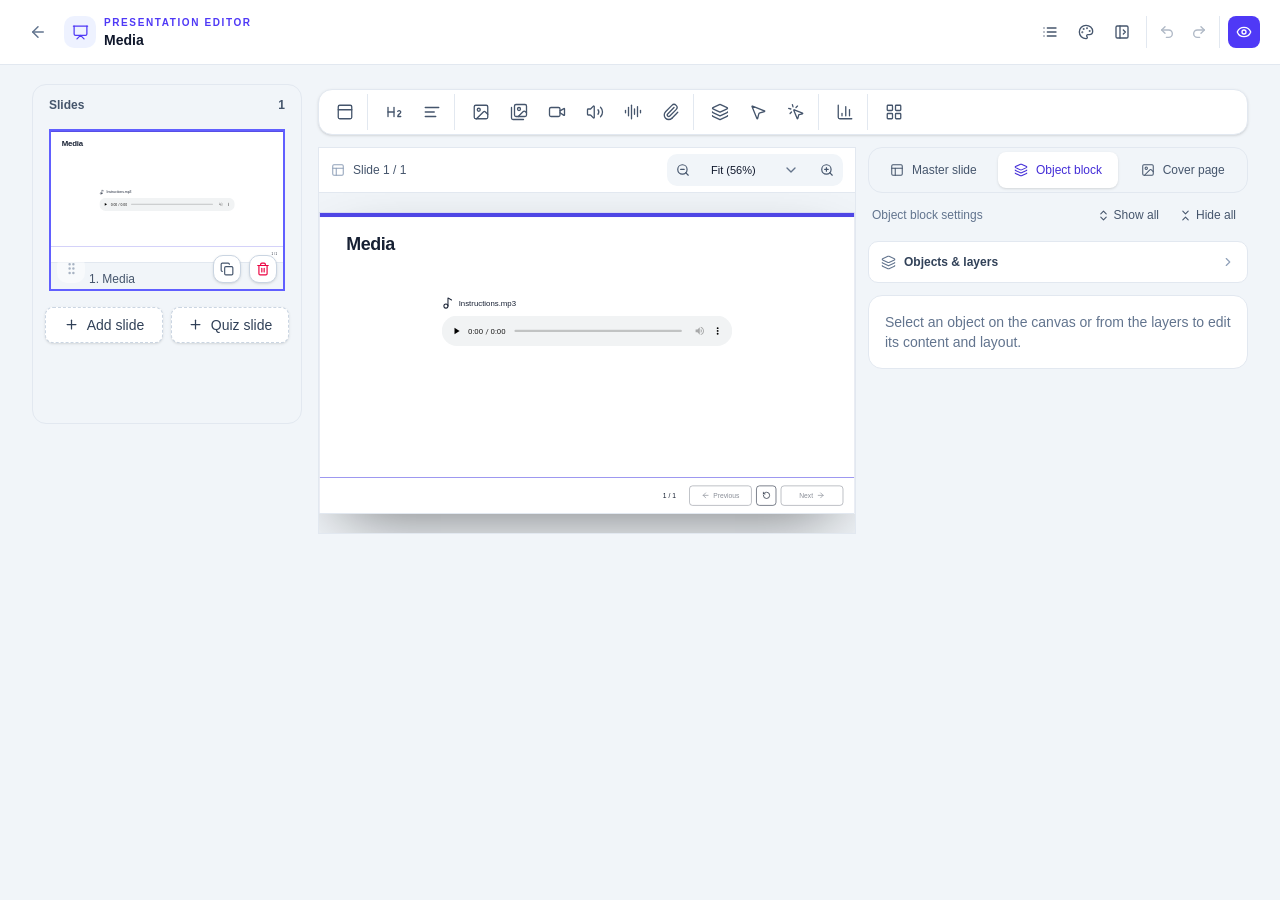
presentation audio file name setting › toggles the file name with undo, saving and reload, and hides it in preview and standalone learners
Press the mouse on the element showing "Instructions.mp3": (479, 303) 442,297 -> 516,309
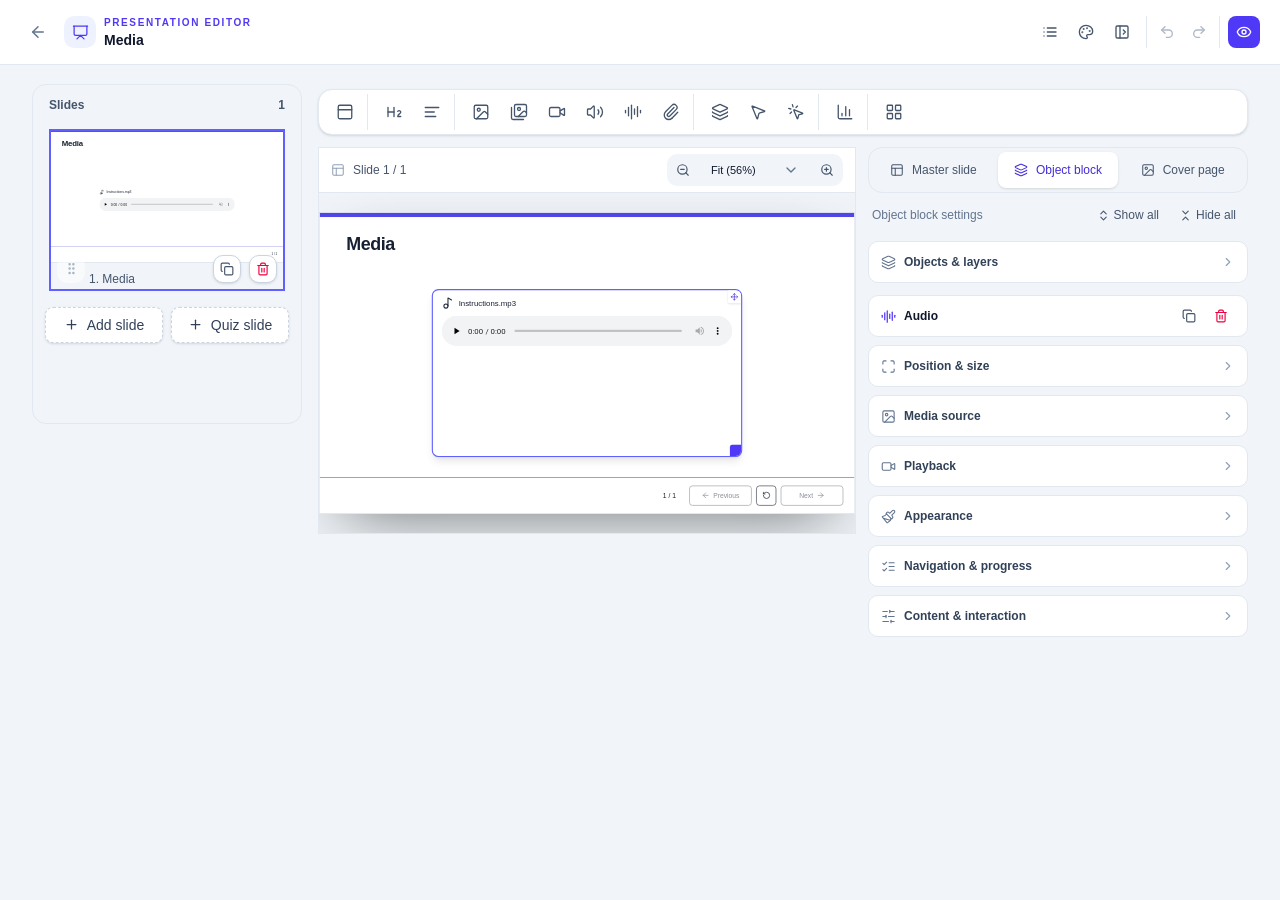
Click the button "Playback": (930, 466) 877,446 -> 1239,486
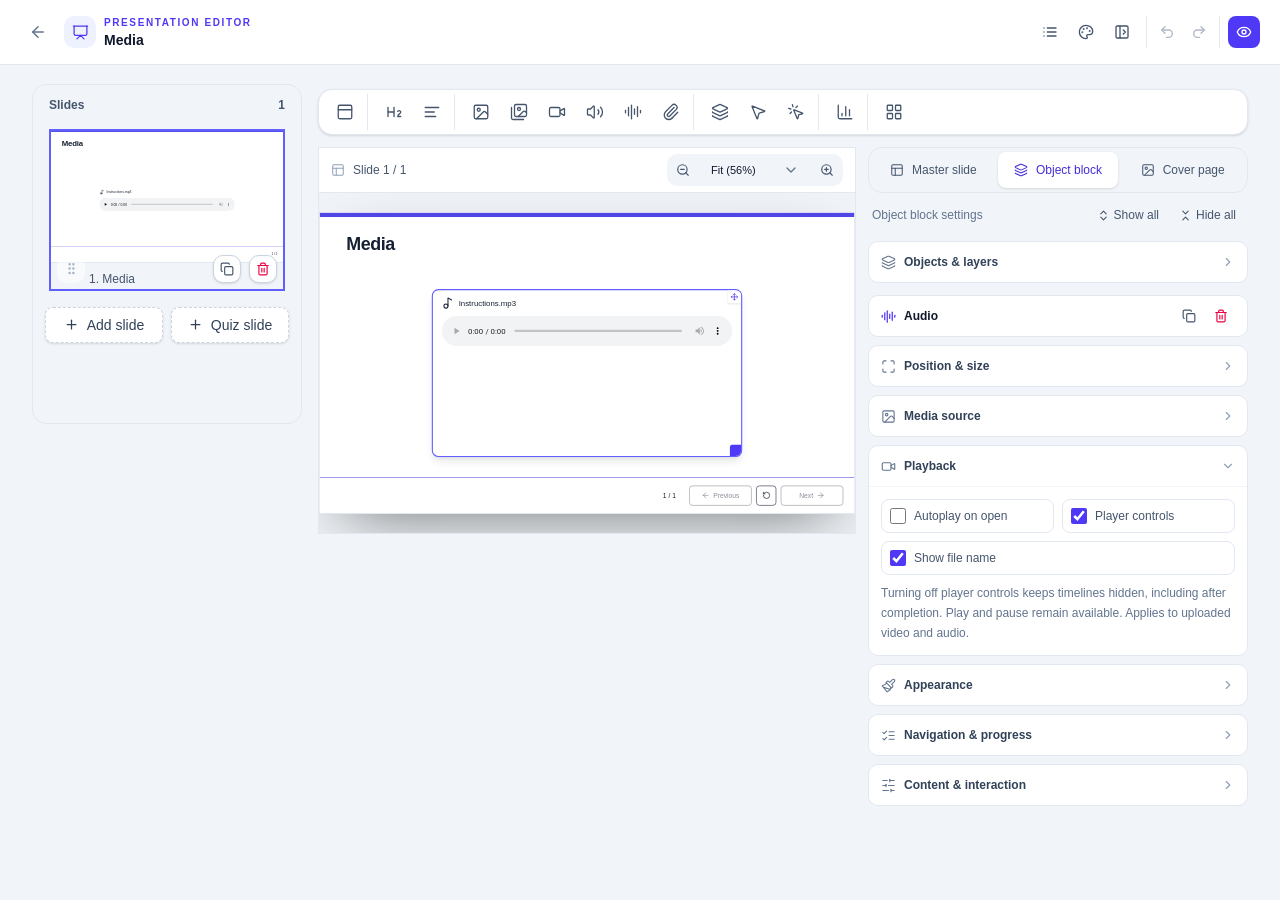
Expected: the element showing "Instructions.mp3 1 / 1 Previous Next" is shown, 319,212 -> 855,514
Now the checkbox named "Show audio file name" is checked
Click the checkbox named "Show audio file name": (898, 558) 890,550 -> 906,566
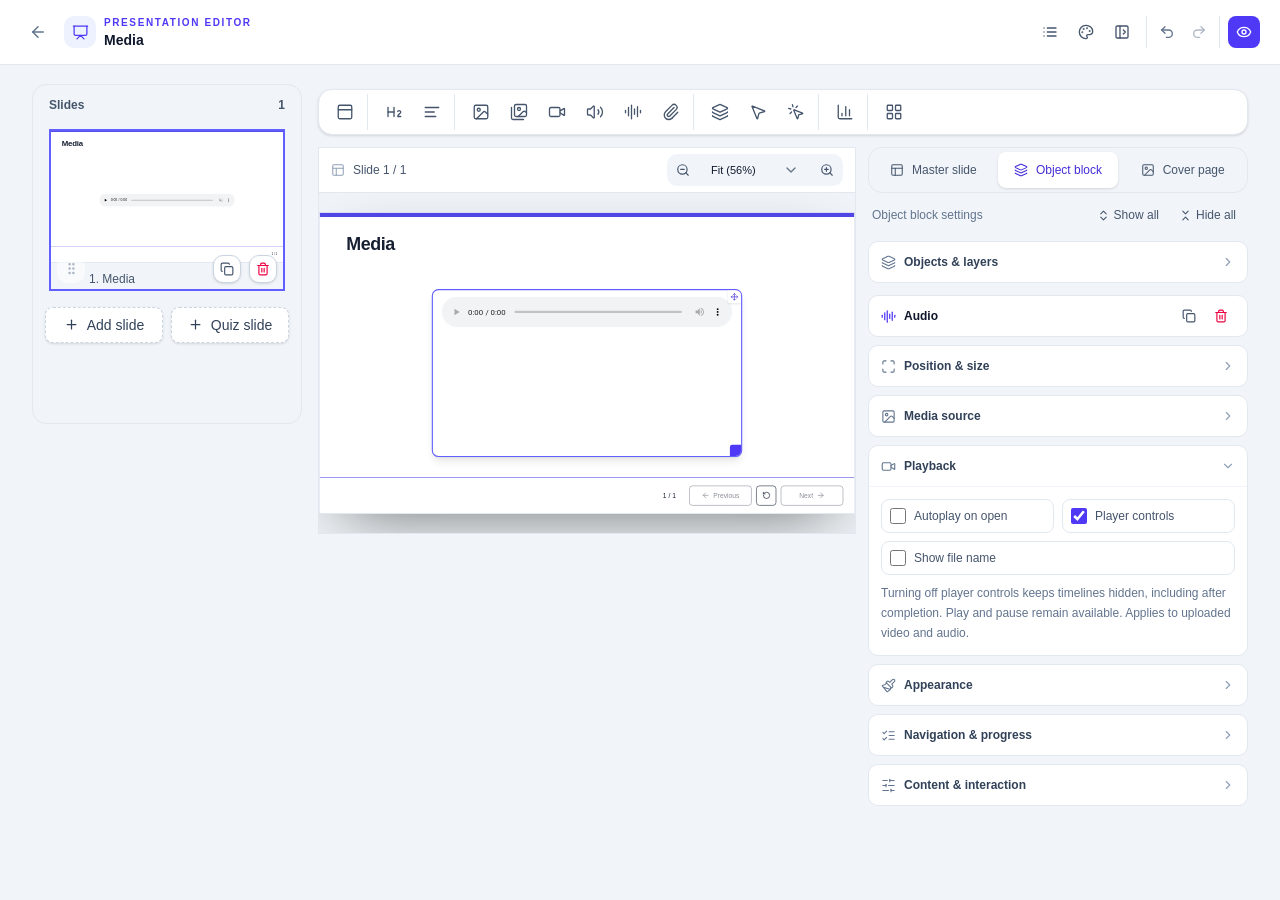
Now the checkbox named "Show audio file name" is not checked, box 890,550 -> 906,566
Now the text "Instructions.mp3" is gone
Click the button named "Undo": (1167, 32) 1151,16 -> 1183,48
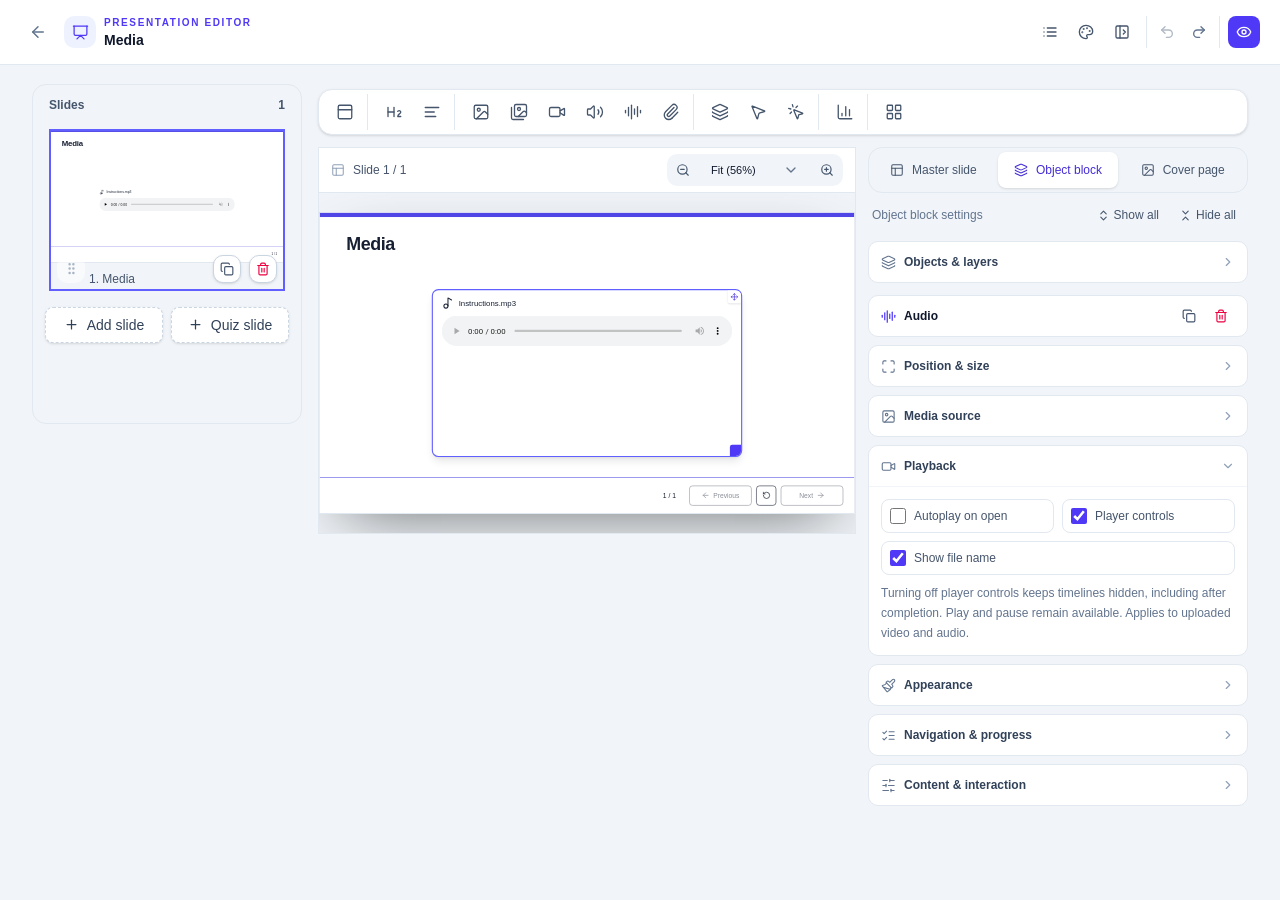
Now the checkbox named "Show audio file name" is checked, box 890,550 -> 906,566
Now the element showing "Instructions.mp3 1 / 1 Previous Next" is shown, box 319,212 -> 855,514
Click the button named "Redo": (1199, 32) 1183,16 -> 1215,48
Wait 1000 ms
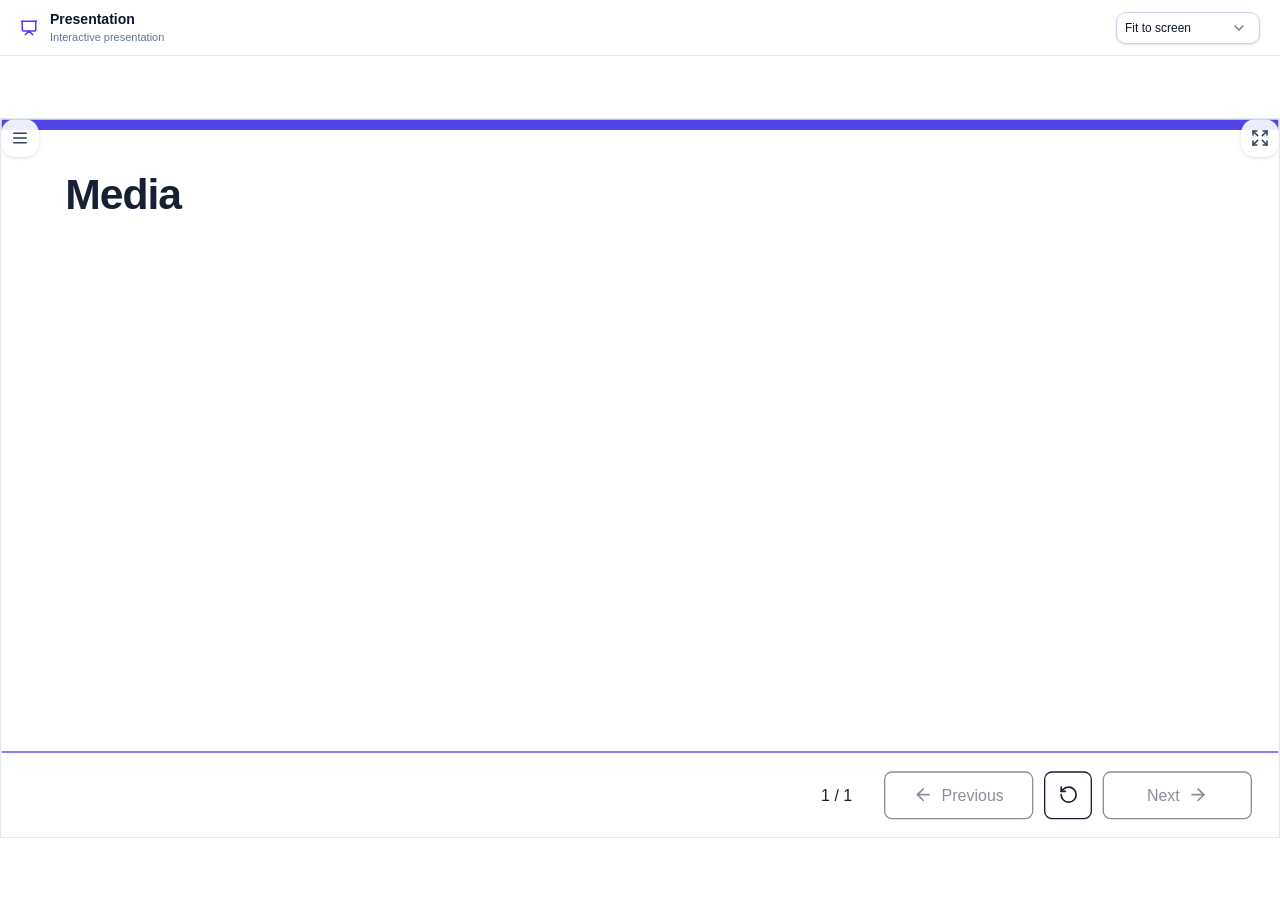
Now the text "Instructions.mp3" is gone
